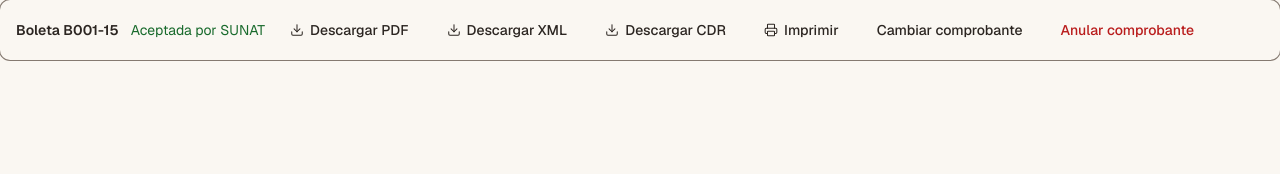
it: IssuedInvoice: descargar › si el archivo todavía no está disponible (409) lo dice en español
Click the button "Descargar PDF" at coordinates (349, 30), box [277, 12, 422, 48]
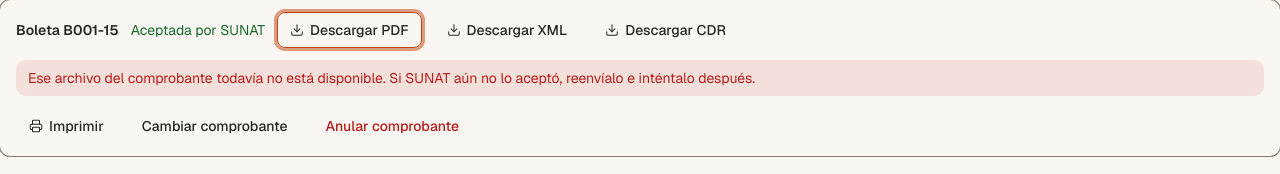
Expected: the message shows "Ese archivo del comprobante todavía no está disponible.", [28, 69, 755, 87]
